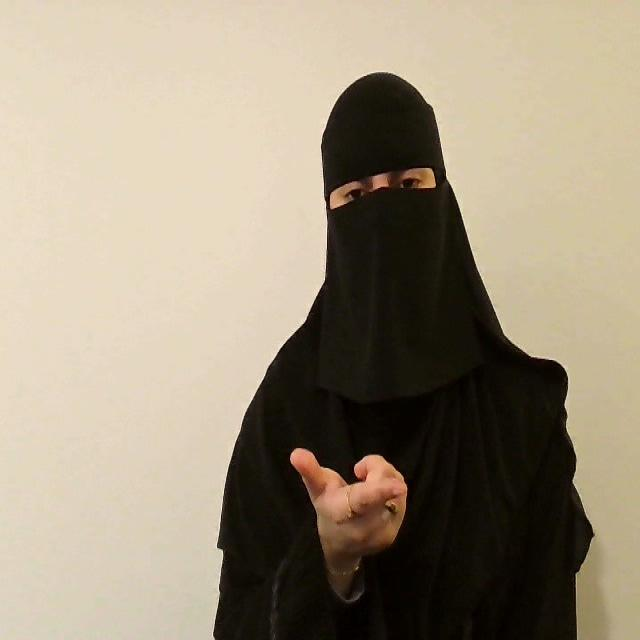dispensing: (289, 445, 408, 575)
